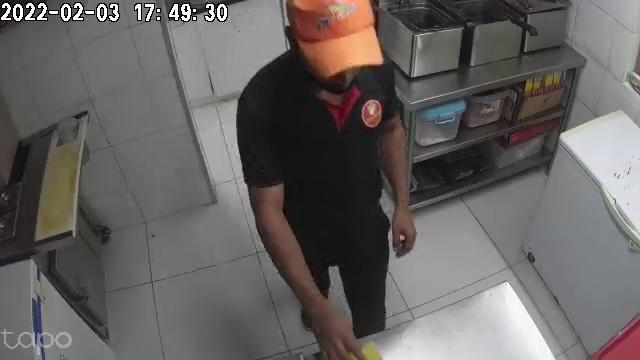no_gloves: (300, 291, 361, 359), (394, 194, 417, 259)
